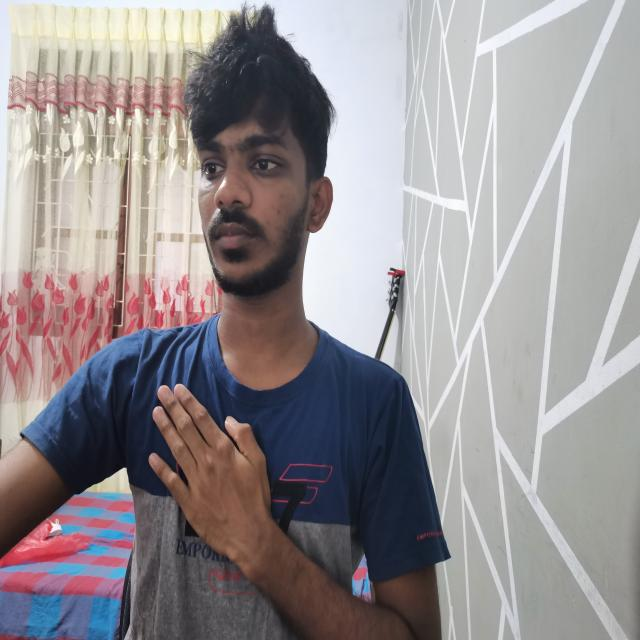Please: (150, 356, 445, 640)
